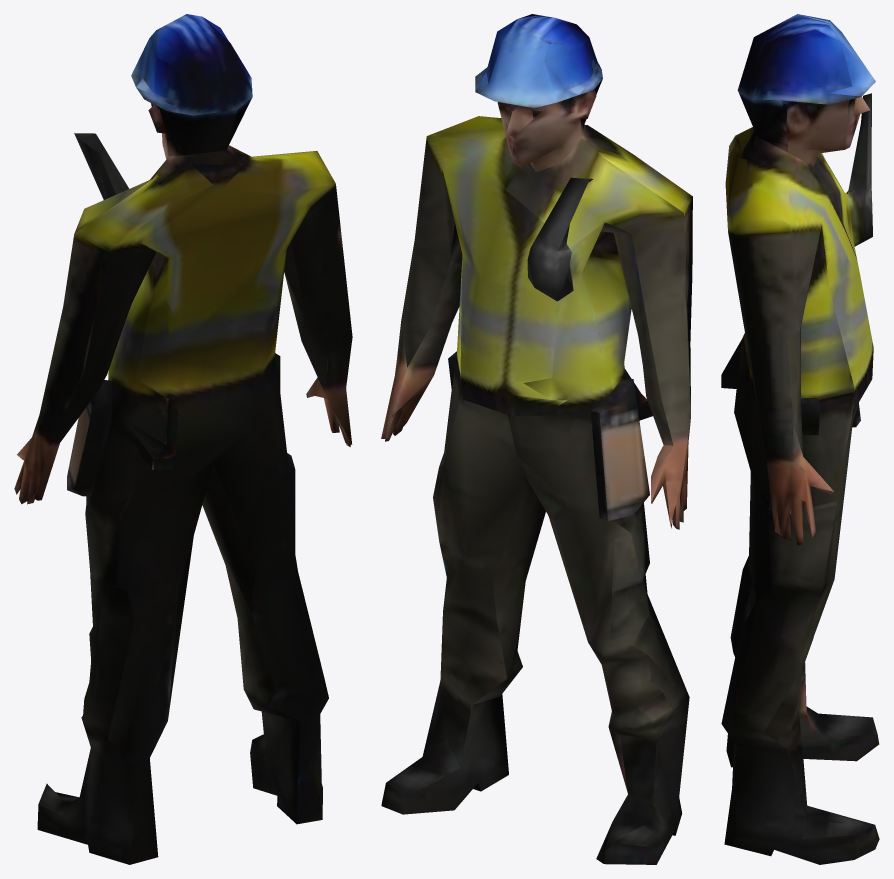
File: encarregado_lod1.glb
3 renders of one model, left to right at view 1: azimuth 30°, elevation 25°; view 2: azimuth 150°, elevation 25°; view 3: azimuth 270°, elevation 25°, orthographic. The views are drawn at different scales.
Visible parts, largest first — view 1: world; view 2: world; view 3: world.
Part boxes in pixels (x1,y1,x2,y2): world: [14, 14, 352, 864]; world: [381, 14, 692, 864]; world: [721, 14, 879, 864].
Size of the model in its own units: 0.7081 by 1.74 by 0.3197.
1 material, 1 textured.
